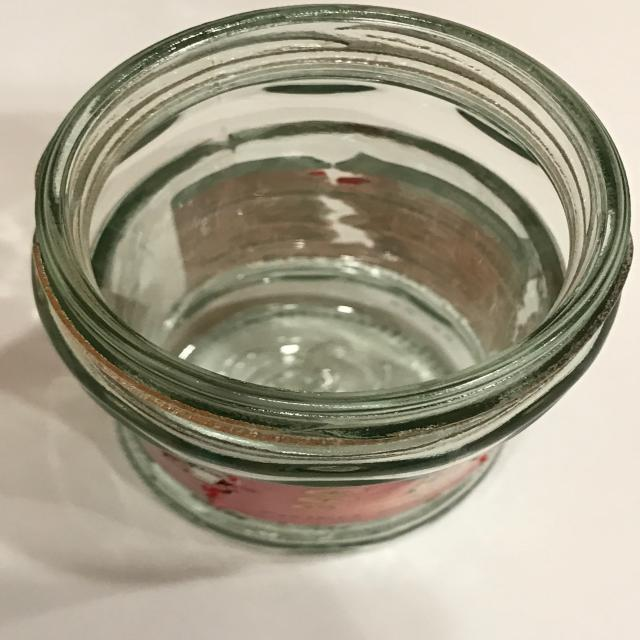Glass: (20, 0, 640, 564)
